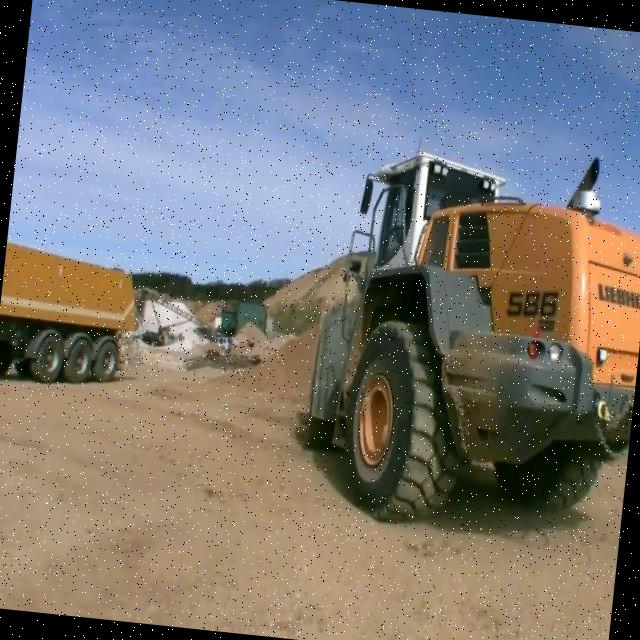Dump Truck: (0, 232, 144, 392)
Loader: (282, 125, 640, 534)
